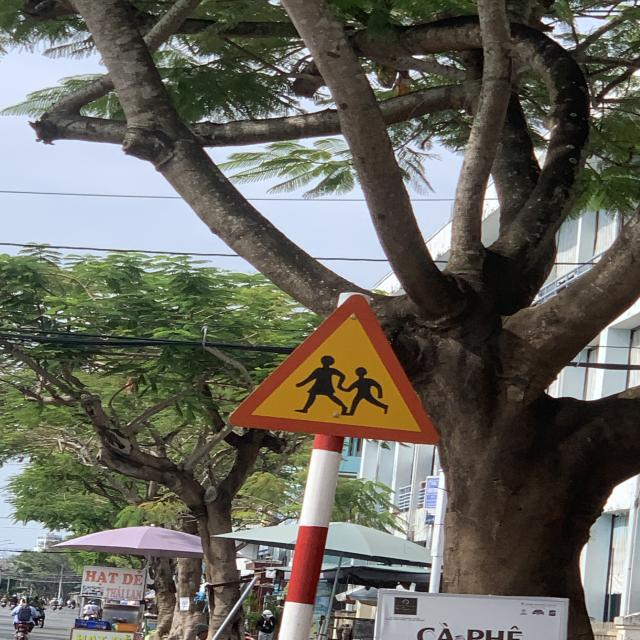Vong_Xuyen: (227, 296, 436, 444)
